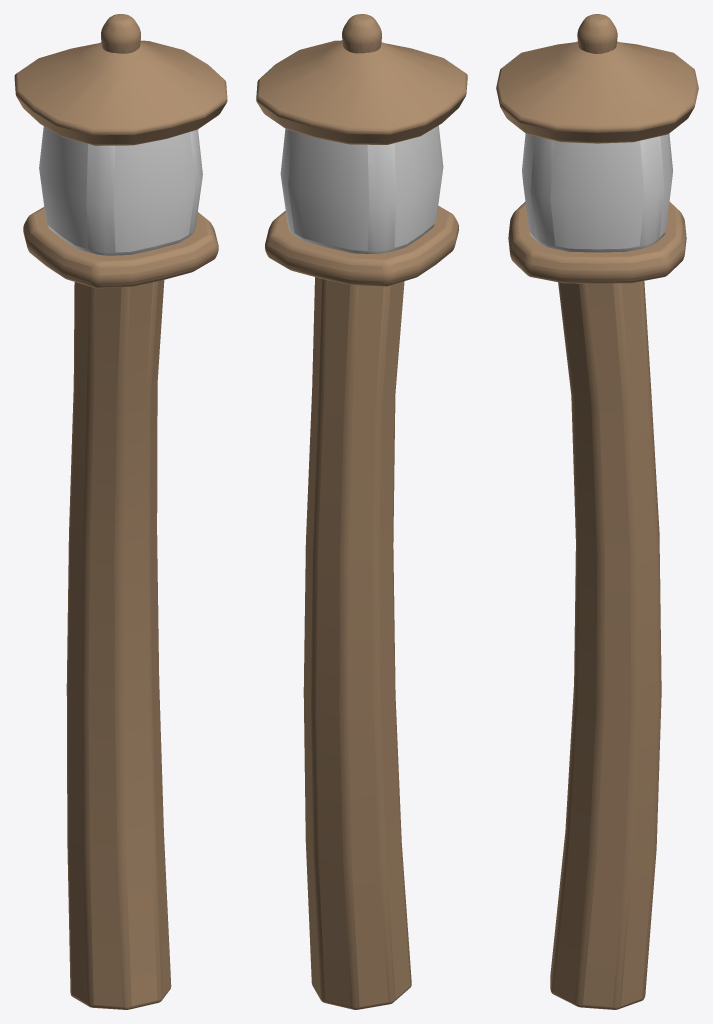
The model's file is prop_lantern_post_4.glb.
The picture shows the model from 3 angles, left to right: view 1: azimuth 30°, elevation 25°; view 2: azimuth 150°, elevation 25°; view 3: azimuth 270°, elevation 25°; orthographic projection.
Visible parts, largest first — view 1: prop_lantern_post_4_timber, prop_lantern_post_4_pv_capiz_lantern; view 2: prop_lantern_post_4_timber, prop_lantern_post_4_pv_capiz_lantern; view 3: prop_lantern_post_4_timber, prop_lantern_post_4_pv_capiz_lantern.
Part boxes in pixels (x1,y1,x2,y2): prop_lantern_post_4_timber: (14, 14, 227, 1009); prop_lantern_post_4_pv_capiz_lantern: (39, 126, 202, 255); prop_lantern_post_4_timber: (256, 14, 467, 1009); prop_lantern_post_4_pv_capiz_lantern: (280, 125, 443, 253); prop_lantern_post_4_timber: (496, 14, 698, 1009); prop_lantern_post_4_pv_capiz_lantern: (522, 134, 672, 252).
Bounding box in the file's own units: 0.471 × 2.5 × 0.471.
